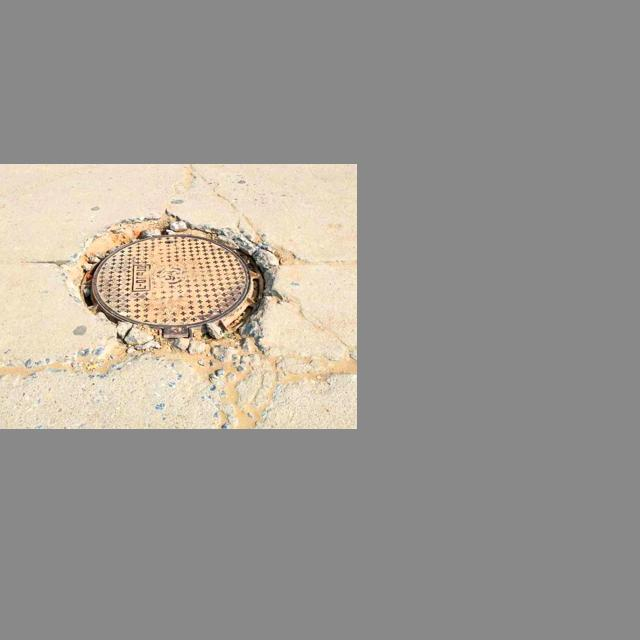circle: (52, 211, 295, 358)
